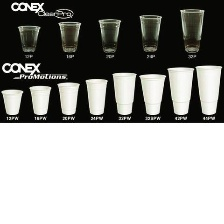glass: (192, 61, 224, 117), (164, 64, 193, 117), (137, 71, 170, 117), (177, 7, 206, 57), (109, 71, 139, 117), (55, 79, 82, 119), (137, 12, 163, 53), (96, 14, 122, 55), (82, 76, 109, 115), (56, 20, 86, 54), (16, 22, 43, 53), (1, 85, 27, 117), (28, 83, 52, 117)
